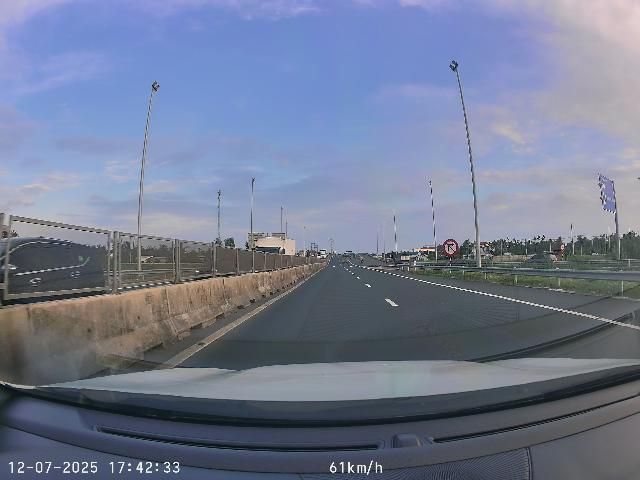123b-cam-re-phai: (442, 238, 459, 256)
